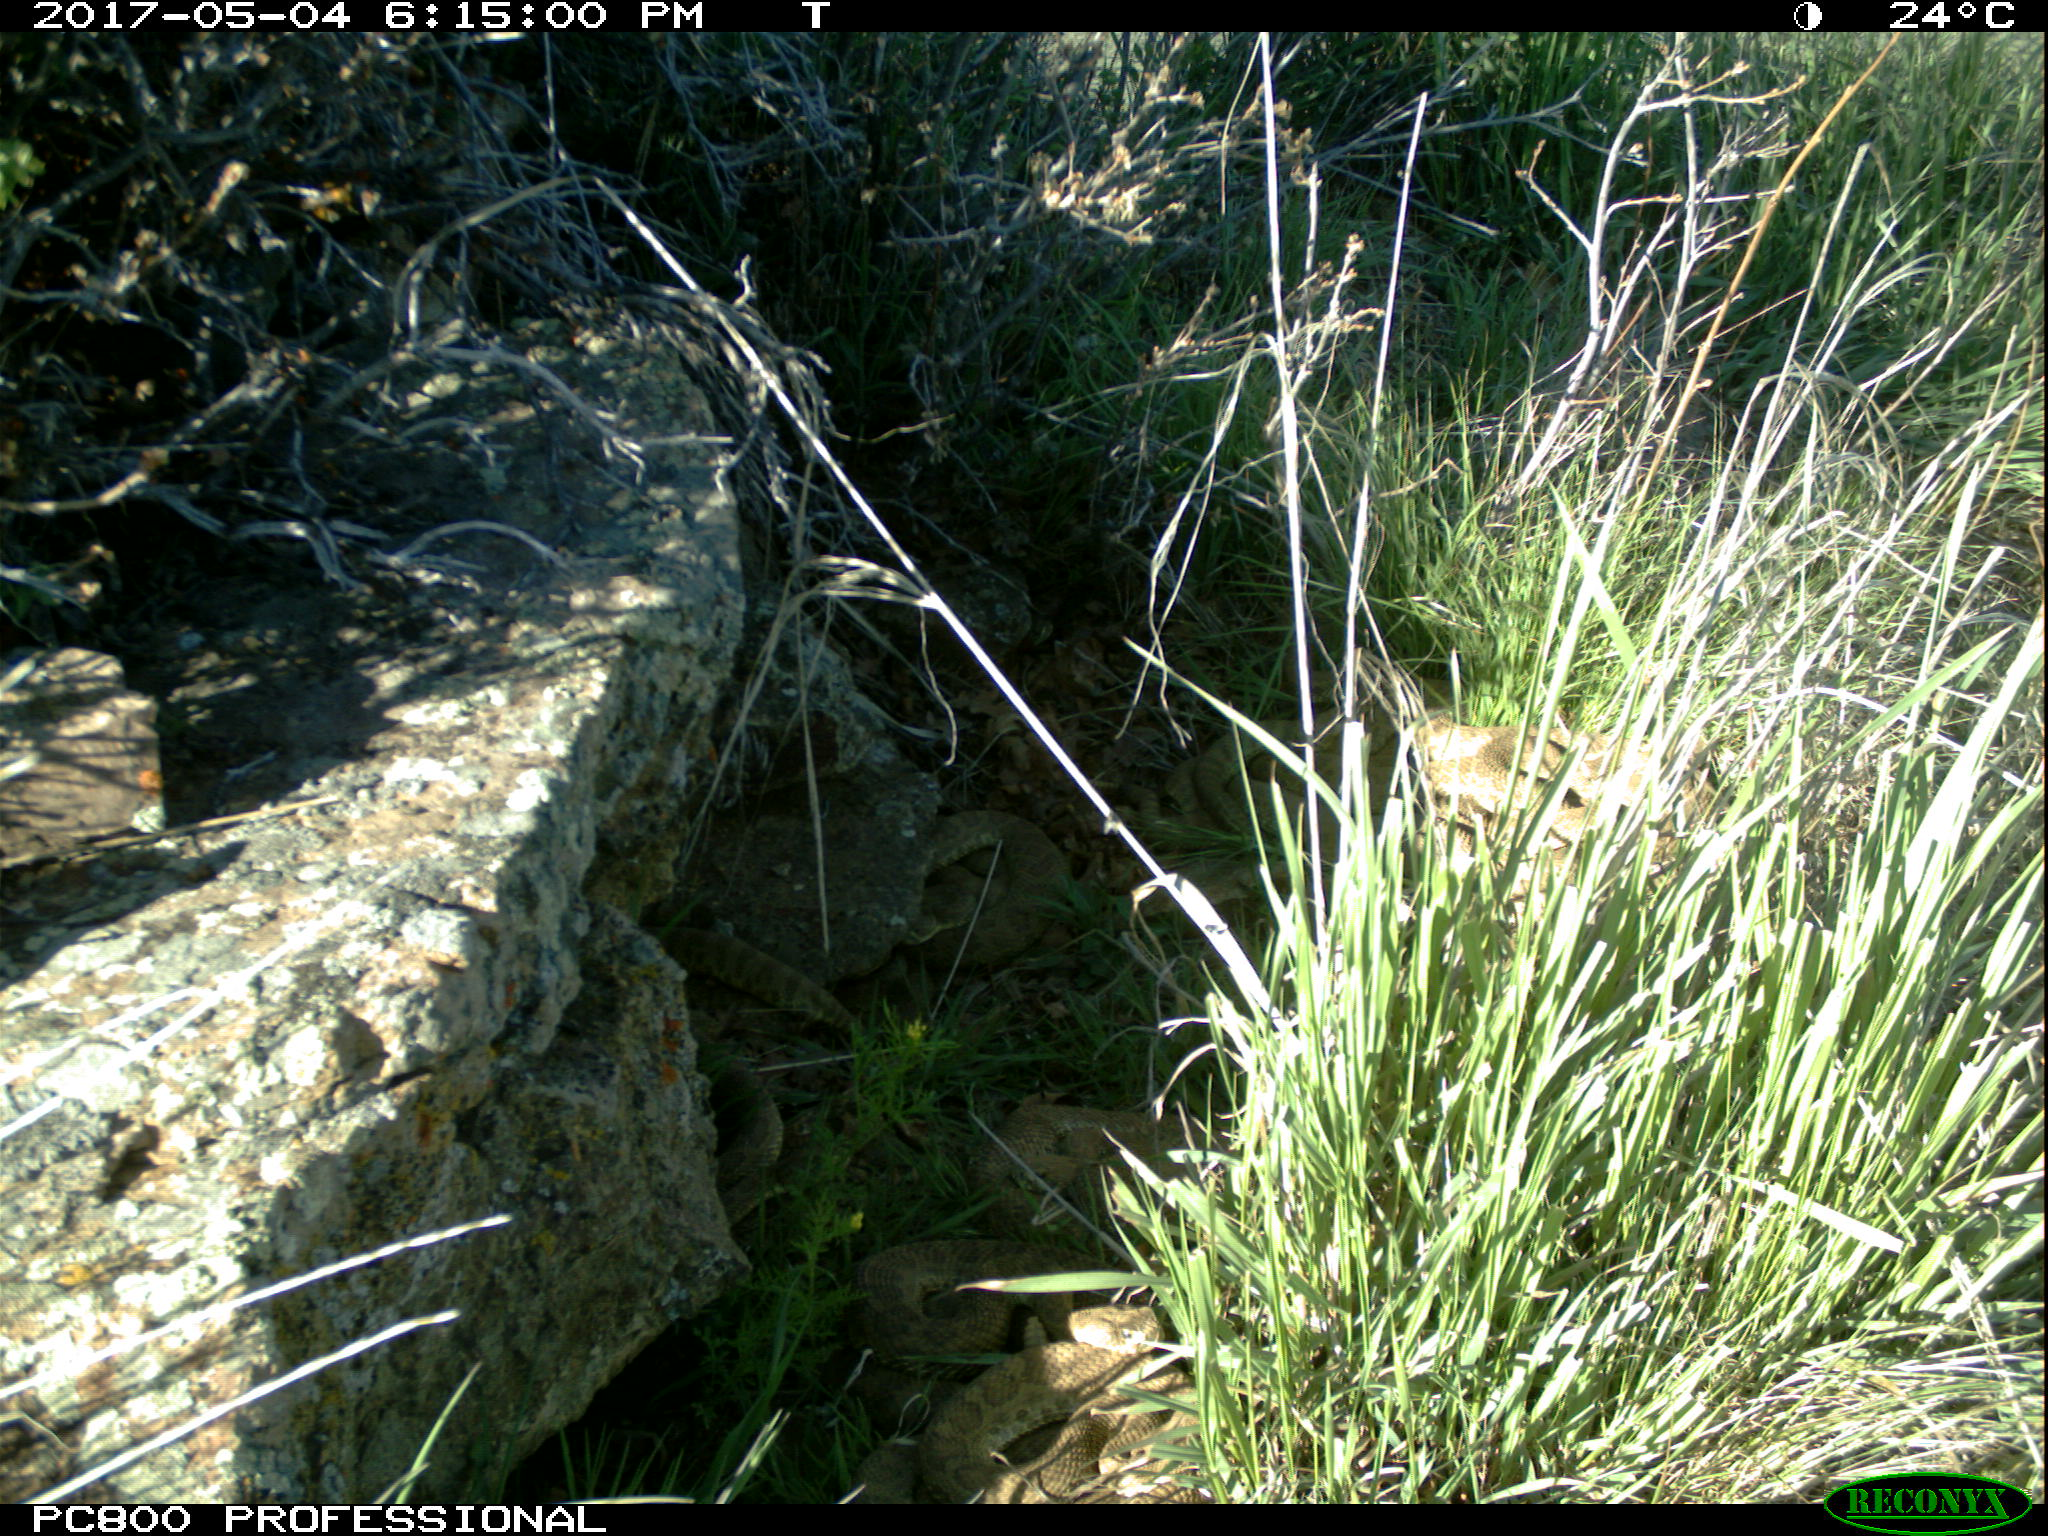snake: (848, 1242, 1201, 1502), (1414, 716, 1679, 854), (1164, 703, 1380, 857), (959, 1100, 1226, 1200), (921, 807, 1074, 965), (674, 933, 874, 1046), (710, 1081, 797, 1179)
